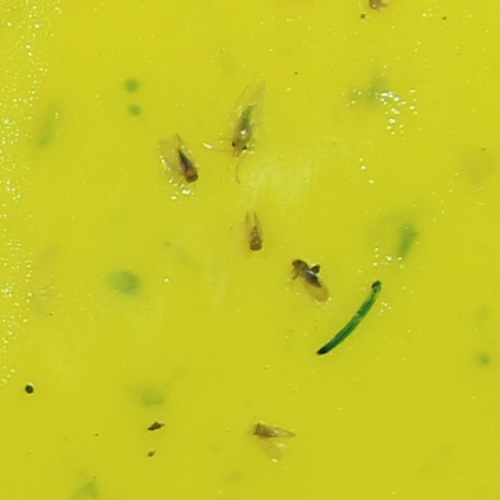Glycaspis: (233, 101, 257, 153)
Platyobria: (248, 226, 262, 254)
psylla: (293, 259, 323, 287), (176, 148, 199, 184), (255, 422, 278, 438)
